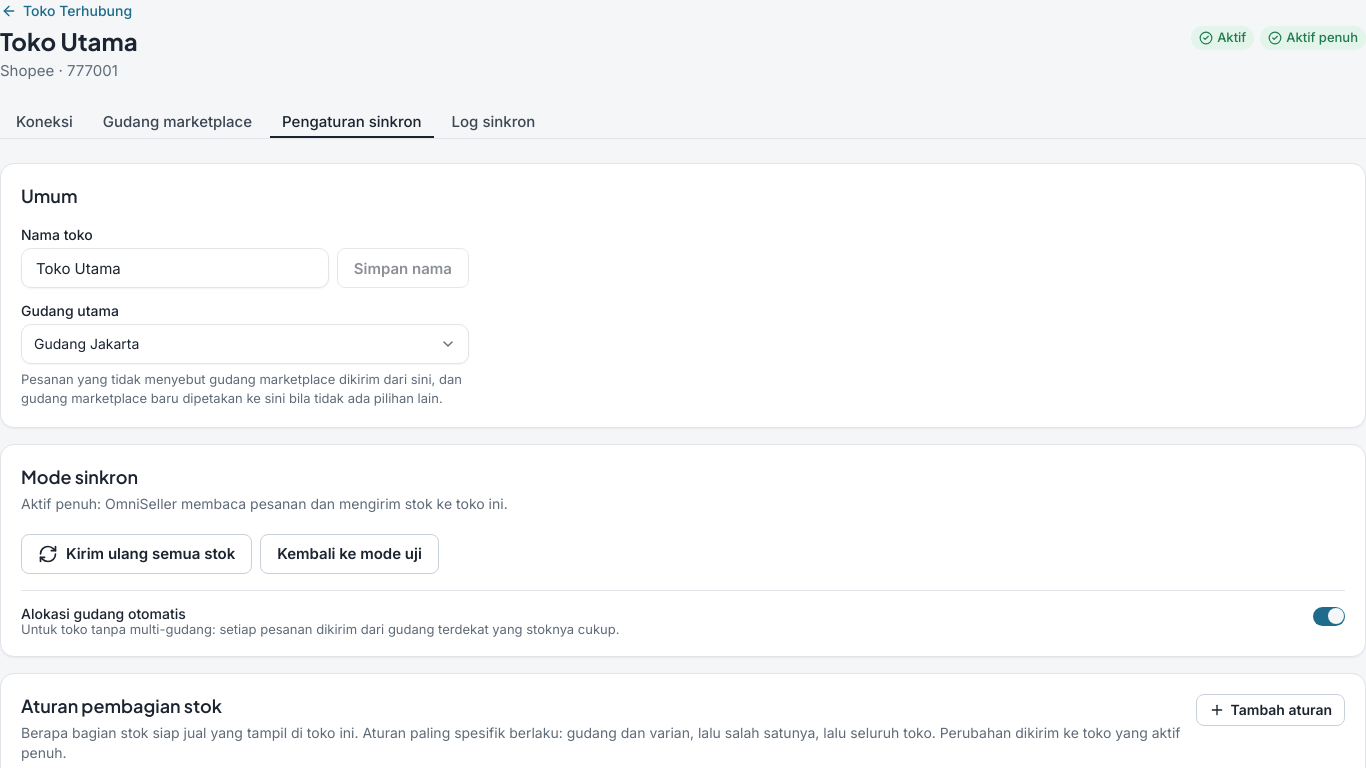
Test: Kelola toko: pengaturan › turns automatic warehouse choice off, sends the stock again, and goes back to the test mode
The width and height of the screenshot is (1366, 768).
Click the switch named "Alokasi gudang otomatis" at point(1329, 616), box [1313,607,1345,626]
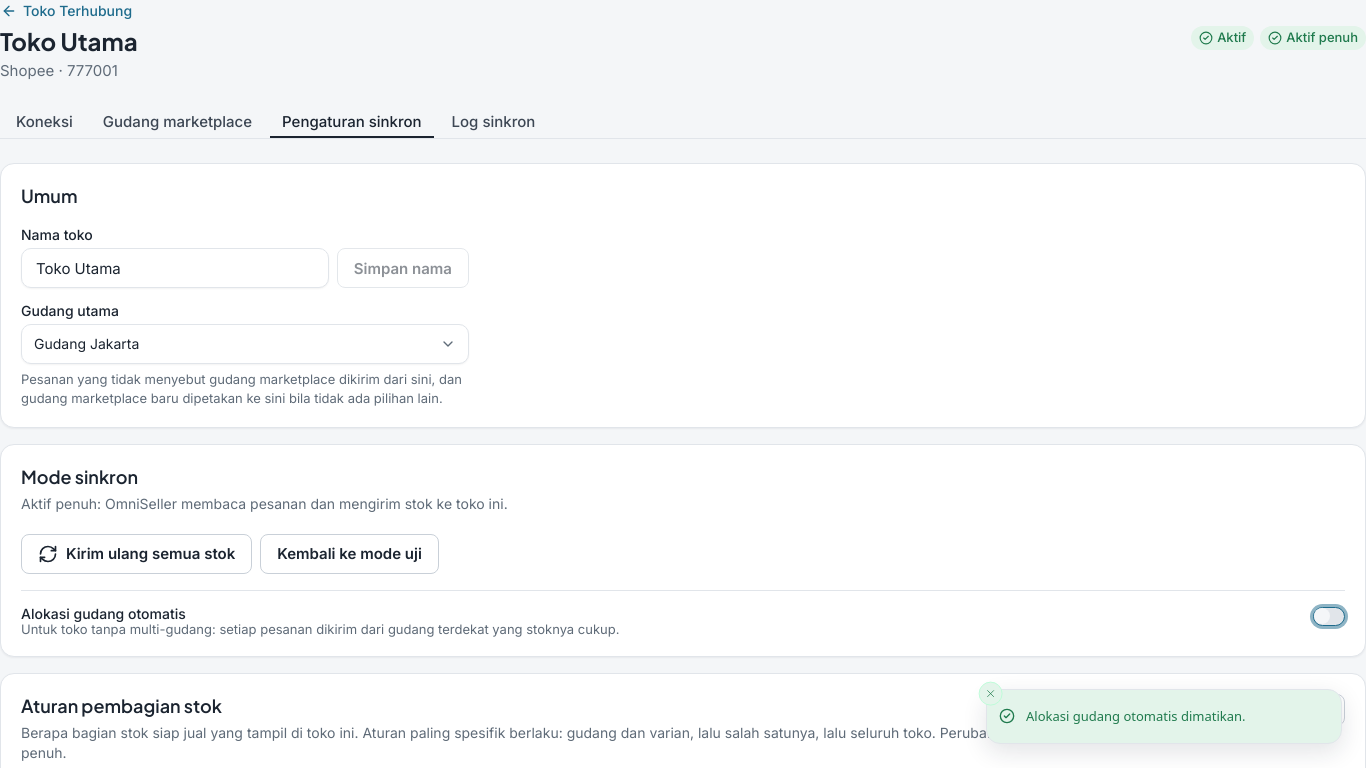
Click the button "Kirim ulang semua stok" at point(137, 554), box [21,534,252,574]
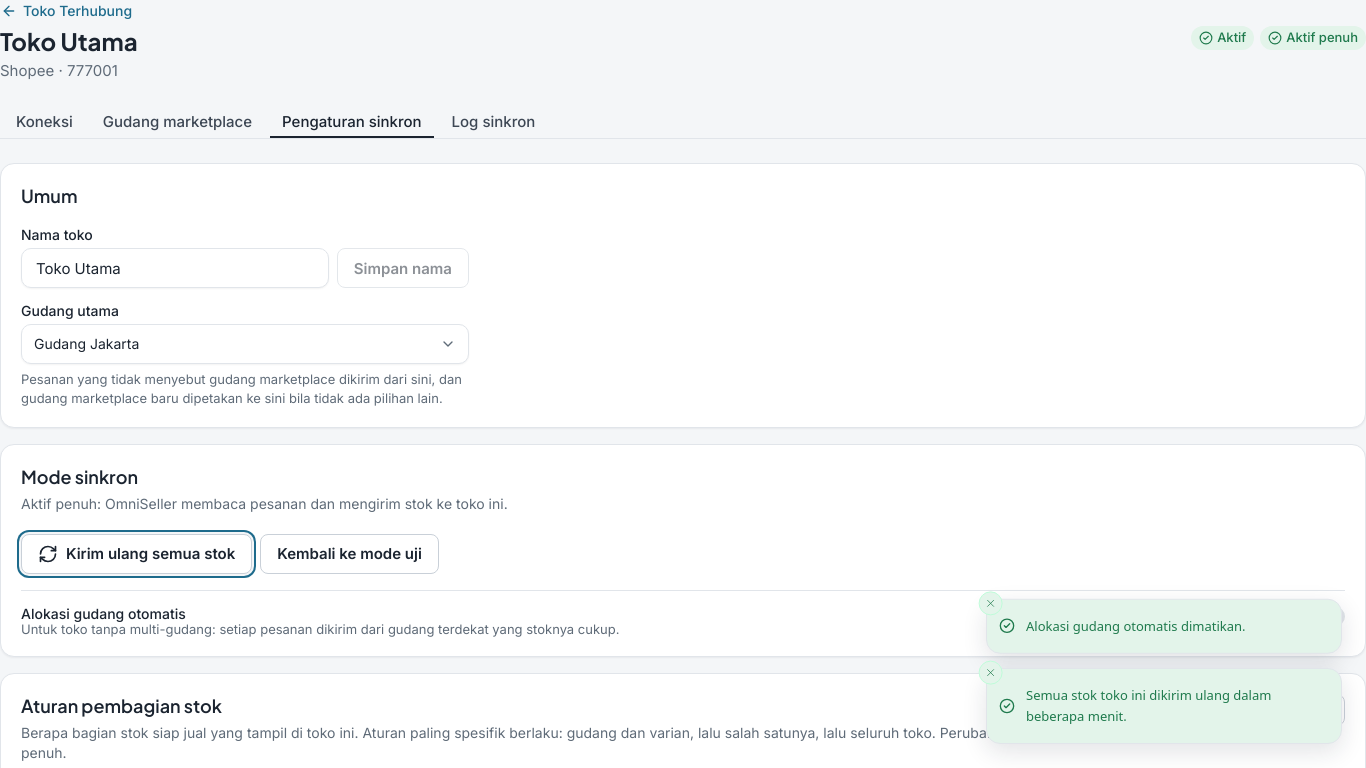
Click the button "Kembali ke mode uji" at point(350, 554), box [260,534,439,574]
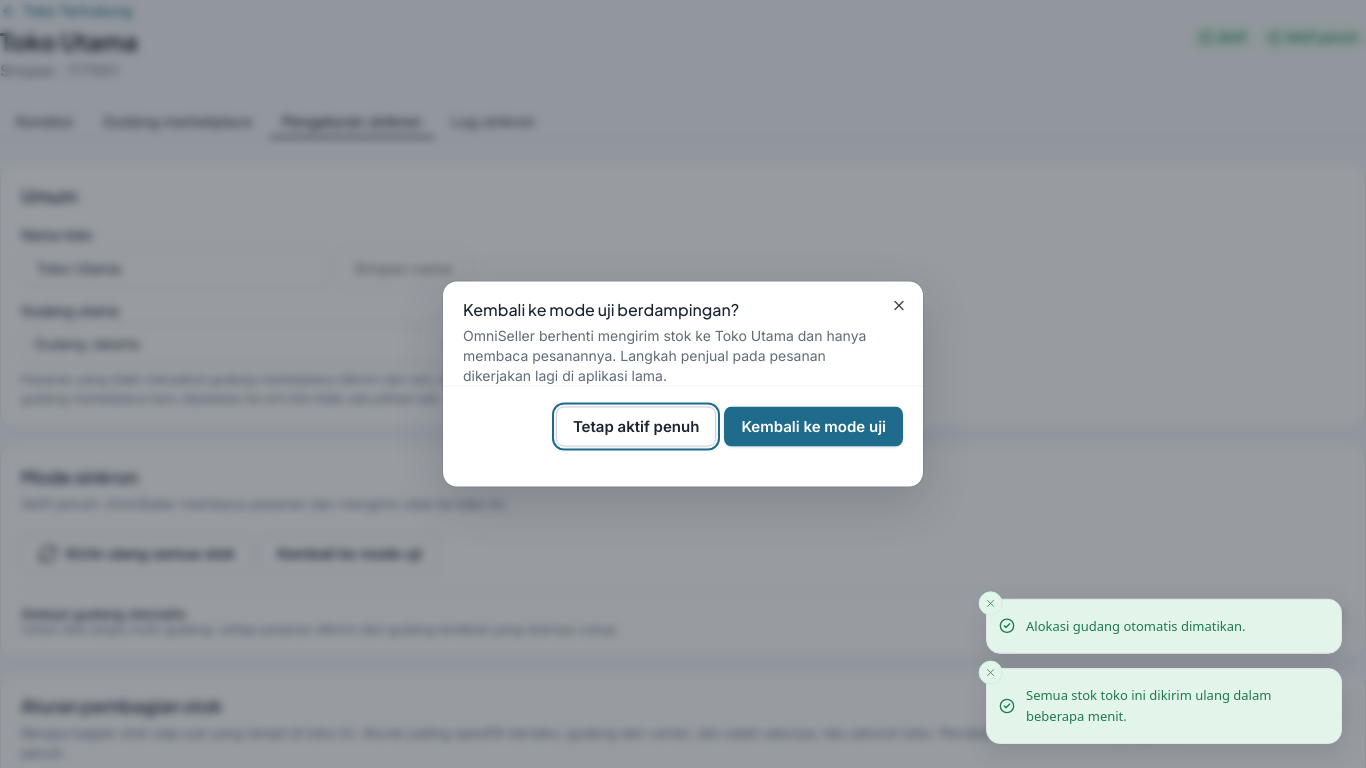
Click the button "Kembali ke mode uji" at point(814, 426), box [724,406,903,446]
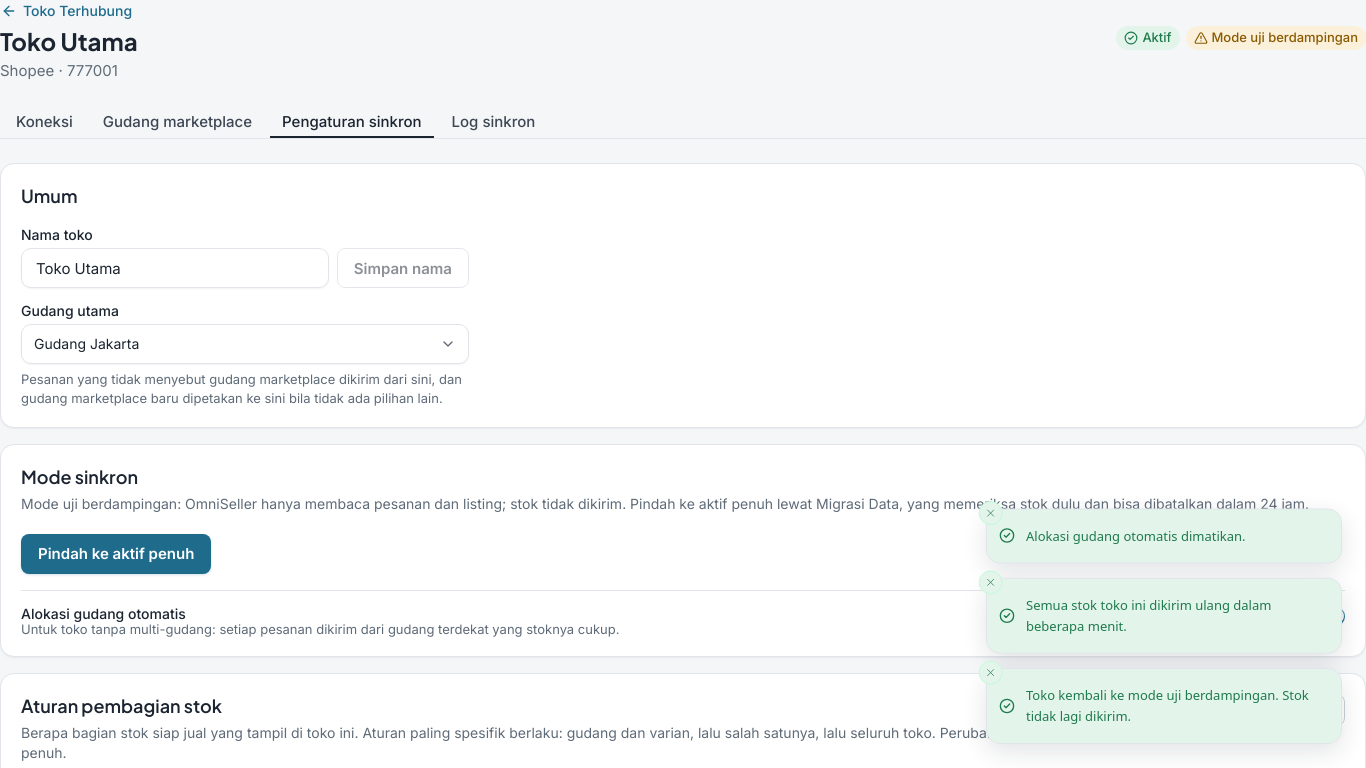
Expected: the text "Toko kembali ke mode uji berdampingan" is shown, [1026,686,1309,725]
